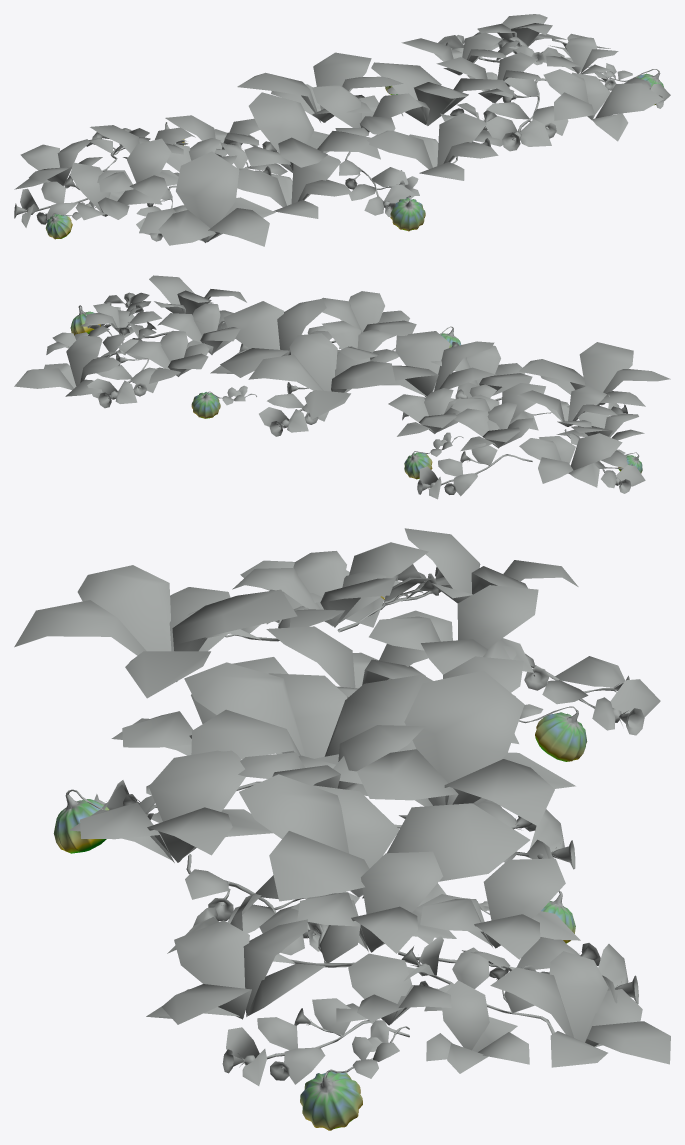
3 renders of one model, top to bottom at view 1: azimuth 30°, elevation 25°; view 2: azimuth 150°, elevation 25°; view 3: azimuth 270°, elevation 25°, orthographic. The views are drawn at different scales.
Visible parts, largest first — view 1: G:\FFXIV-MapTools\exports\y6f3\bg\ex5\02_ykt_y6\fld\y6f3\bgp; view 2: G:\FFXIV-MapTools\exports\y6f3\bg\ex5\02_ykt_y6\fld\y6f3\bgp; view 3: G:\FFXIV-MapTools\exports\y6f3\bg\ex5\02_ykt_y6\fld\y6f3\bgp.
Part boxes in pixels (bbox=[...]): G:\FFXIV-MapTools\exports\y6f3\bg\ex5\02_ykt_y6\fld\y6f3\bgp: bbox=[14, 14, 670, 246]; G:\FFXIV-MapTools\exports\y6f3\bg\ex5\02_ykt_y6\fld\y6f3\bgp: bbox=[14, 275, 670, 499]; G:\FFXIV-MapTools\exports\y6f3\bg\ex5\02_ykt_y6\fld\y6f3\bgp: bbox=[14, 528, 670, 1130].
Size of the model in its own units: 5.15 by 0.6381 by 2.66.
